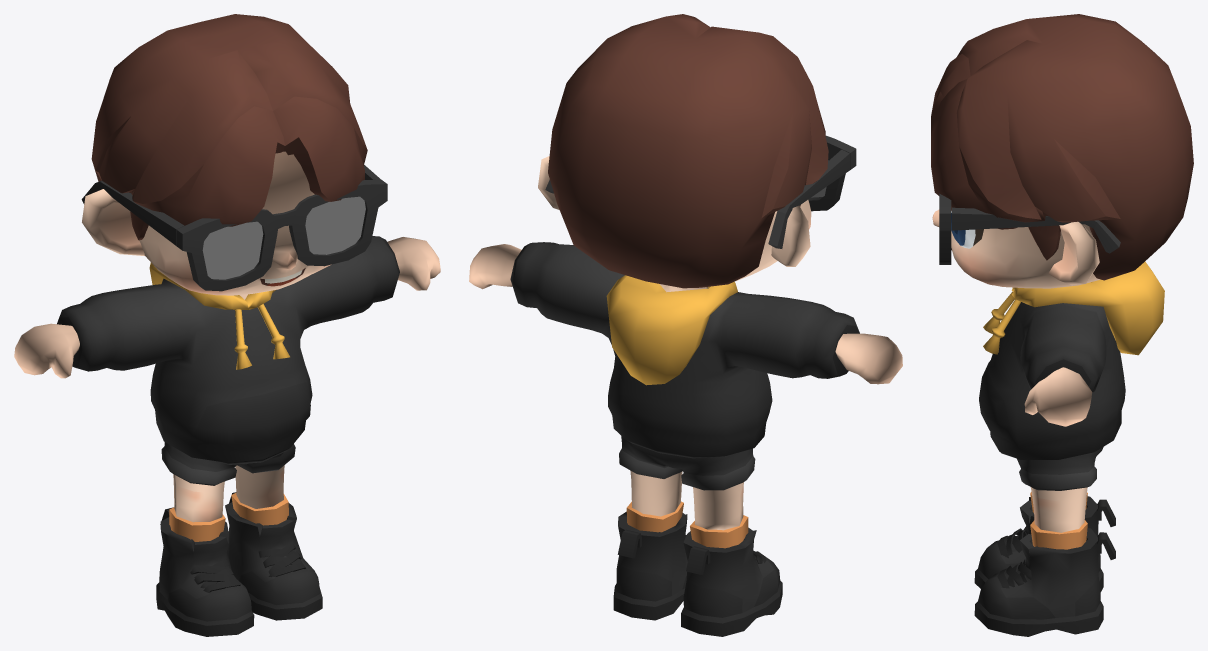
The model's file is Blake.fbx.
3 renders of one model, left to right at view 1: azimuth 30°, elevation 25°; view 2: azimuth 150°, elevation 25°; view 3: azimuth 270°, elevation 25°, orthographic.
Parts seen in each view (by area): view 1: Hair_2.004, Top_27, Shoes_16.002, Eyewear_1, Face_A4.003, Body_Hand, Body_LegB_2.013, Bottom_2; view 2: Hair_2.004, Top_27, Shoes_16.002, Body_Hand, Bottom_2, Body_LegB_2.013, Eyewear_1, Face_A4.003; view 3: Hair_2.004, Top_27, Shoes_16.002, Face_A4.003, Eyewear_1, Body_Hand, Bottom_2, Body_LegB_2.013.
Boxes of the visible parts, bbox=[...] form: Hair_2.004: bbox=[91, 14, 367, 240]; Top_27: bbox=[57, 236, 399, 464]; Shoes_16.002: bbox=[156, 492, 322, 636]; Eyewear_1: bbox=[81, 165, 387, 291]; Face_A4.003: bbox=[82, 151, 331, 295]; Body_Hand: bbox=[14, 237, 440, 378]; Body_LegB_2.013: bbox=[173, 465, 284, 522]; Bottom_2: bbox=[161, 442, 295, 485]; Hair_2.004: bbox=[548, 14, 828, 288]; Top_27: bbox=[510, 242, 859, 458]; Shoes_16.002: bbox=[613, 501, 782, 636]; Body_Hand: bbox=[469, 244, 902, 384]; Bottom_2: bbox=[619, 436, 755, 490]; Body_LegB_2.013: bbox=[630, 470, 743, 530]; Eyewear_1: bbox=[545, 135, 856, 248]; Face_A4.003: bbox=[538, 156, 811, 281]; Hair_2.004: bbox=[931, 14, 1193, 280]; Top_27: bbox=[979, 261, 1164, 459]; Shoes_16.002: bbox=[974, 492, 1115, 636]; Face_A4.003: bbox=[932, 209, 1100, 288]; Eyewear_1: bbox=[939, 193, 1120, 264]; Body_Hand: bbox=[1024, 367, 1092, 426]; Bottom_2: bbox=[1017, 447, 1103, 490]; Body_LegB_2.013: bbox=[1030, 487, 1087, 532].
Bounding box in the file's own units: 131 × 169 × 70.92.
